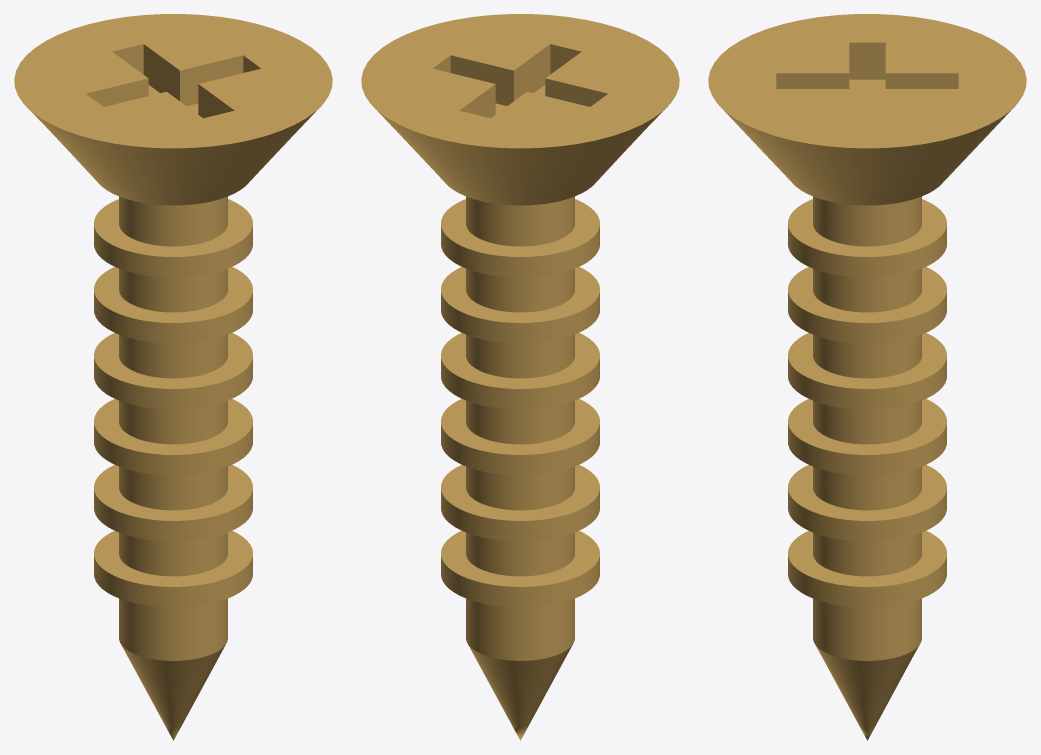
Rendered from madeira_3_5x16.glb.
3 views of the same model, side by side, from view 1: azimuth 30°, elevation 25°; view 2: azimuth 150°, elevation 25°; view 3: azimuth 270°, elevation 25° (orthographic).
Parts seen in each view (by area): view 1: madeira_3_5x16; view 2: madeira_3_5x16; view 3: madeira_3_5x16.
Boxes of the visible parts, bbox=[...] form: madeira_3_5x16: bbox=[14, 14, 332, 740]; madeira_3_5x16: bbox=[361, 14, 679, 740]; madeira_3_5x16: bbox=[708, 14, 1026, 740].
Bounding box in the file's own units: 6.99 × 16 × 7.
